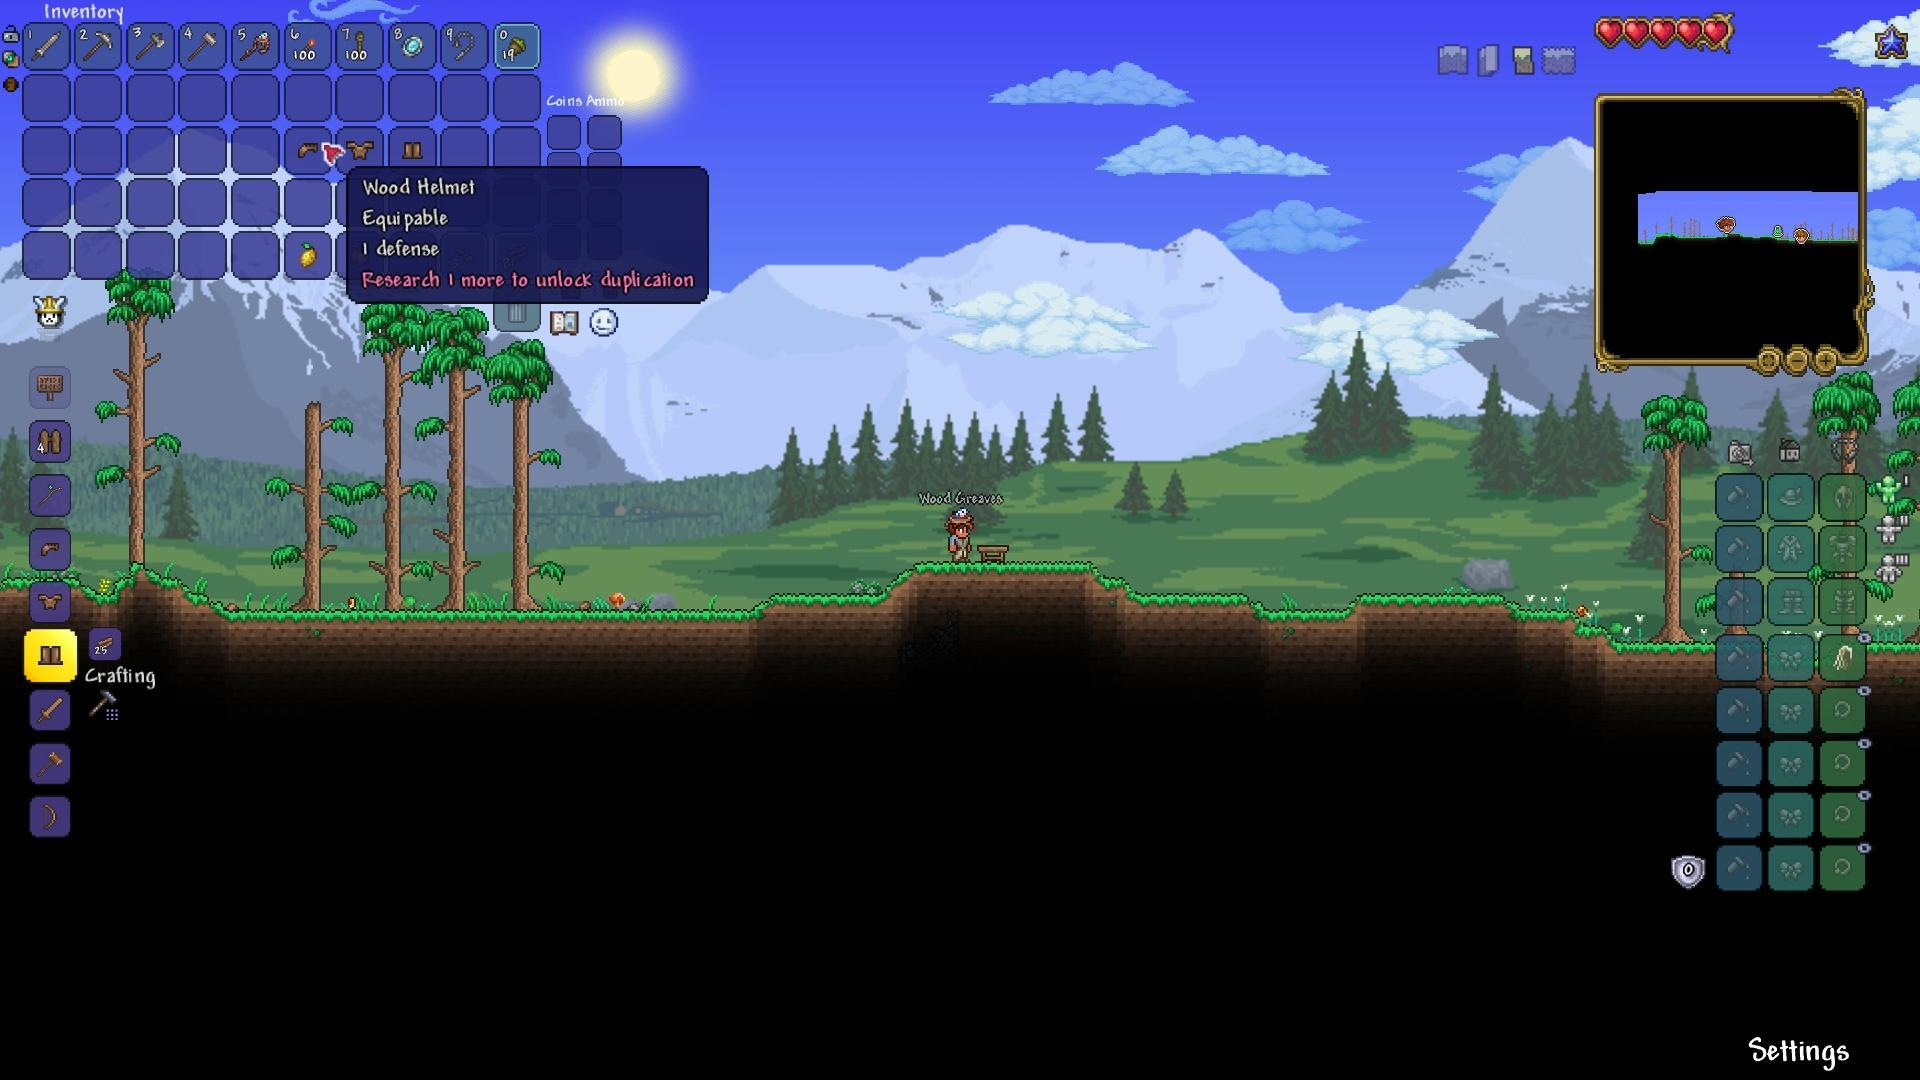helmet: (294, 141, 323, 160)
